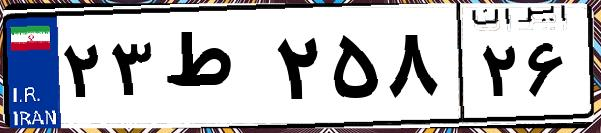2: (270, 28, 330, 110), (57, 26, 110, 100), (475, 38, 525, 113)
3: (110, 28, 158, 98)
5: (330, 28, 385, 110)
6: (525, 38, 570, 115)
8: (385, 28, 445, 110)
ط: (158, 20, 270, 120)
